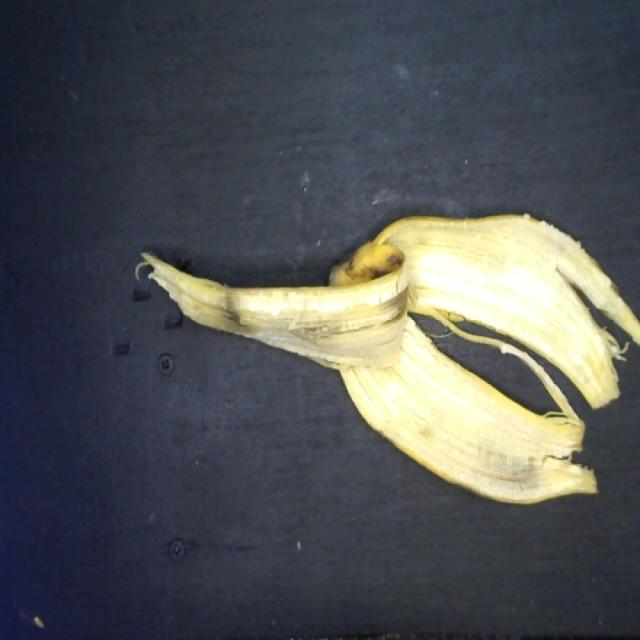biodegradable: (130, 201, 640, 515)
